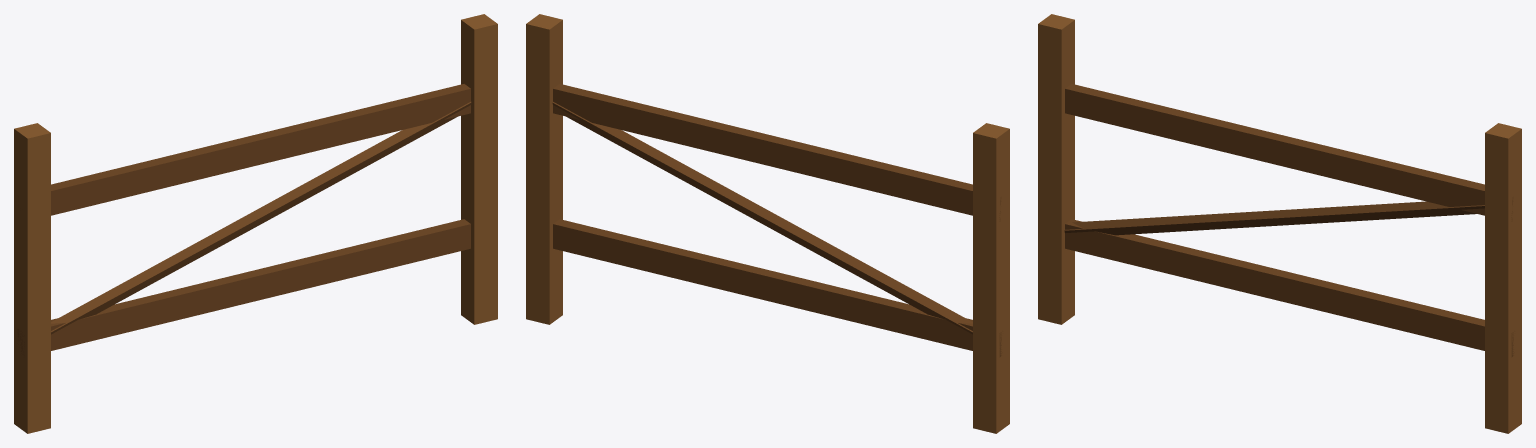
File: ranch_fence_2m.glb
3 renders of one model, left to right at view 1: azimuth 30°, elevation 25°; view 2: azimuth 150°, elevation 25°; view 3: azimuth 330°, elevation 25°, orthographic.
Visible parts, largest first — view 1: ranch_fence_2m; view 2: ranch_fence_2m; view 3: ranch_fence_2m.
Boxes of the visible parts, x1,y1,x2,y2 form: ranch_fence_2m: [14, 14, 497, 433]; ranch_fence_2m: [526, 14, 1009, 433]; ranch_fence_2m: [1038, 14, 1521, 433].
Bounding box in the file's own units: 2 × 1.2 × 0.1.
